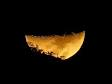moon: (23, 33, 86, 60)
